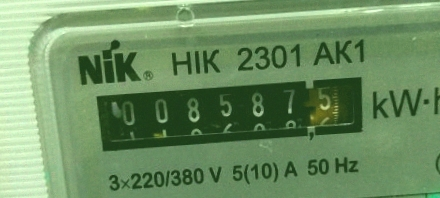0: (118, 96, 137, 126), (152, 95, 171, 124)
5: (315, 83, 334, 113), (216, 90, 234, 119)
7: (279, 84, 298, 116)
8: (248, 88, 267, 119), (184, 94, 202, 123)
screen: (77, 60, 383, 163)
